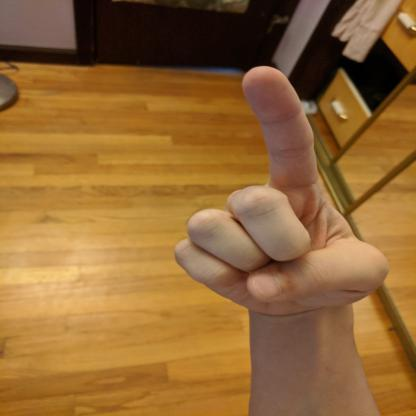D: (170, 64, 393, 322)
